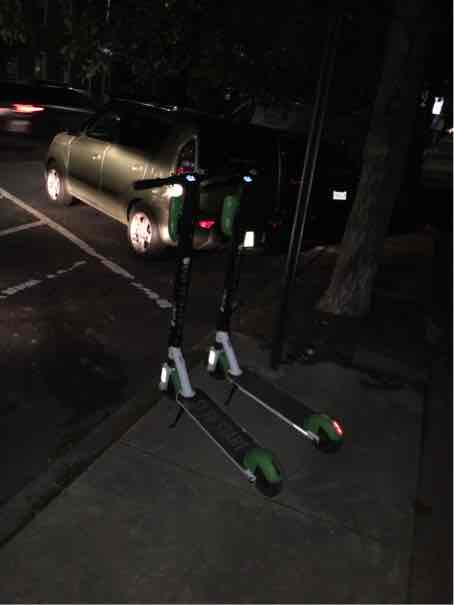too close: (192, 331, 244, 384), (144, 353, 192, 406)
